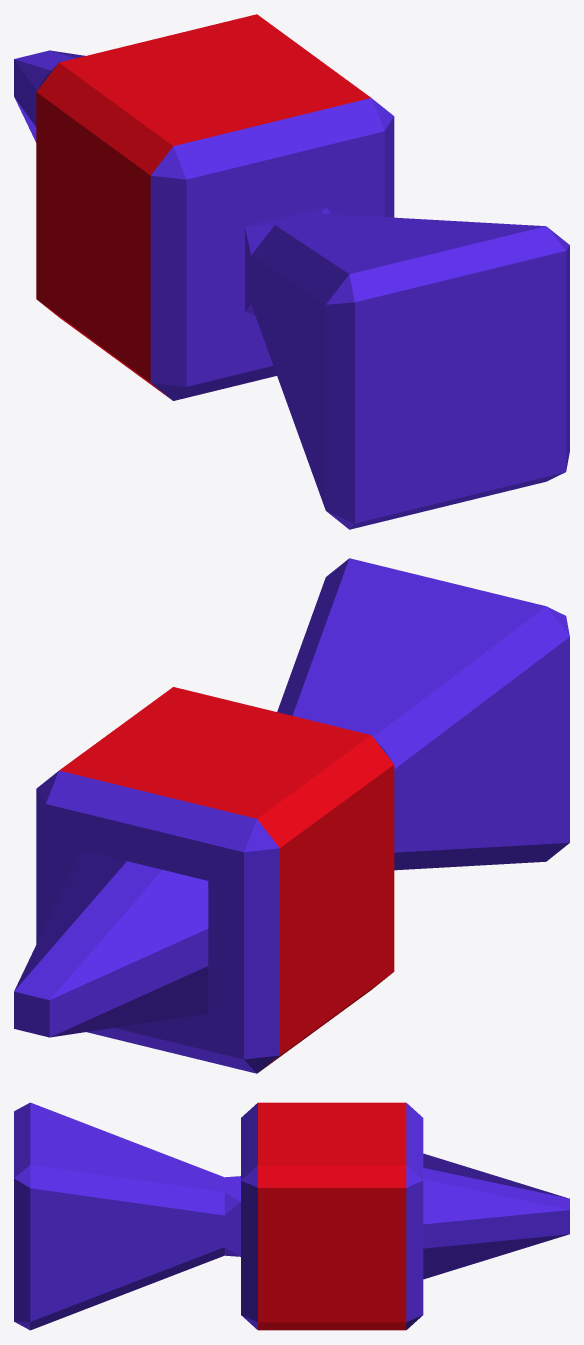
The model's file is weird_thing_colored.glb.
3 renders of one model, top to bottom at view 1: azimuth 30°, elevation 25°; view 2: azimuth 150°, elevation 25°; view 3: azimuth 270°, elevation 25°, orthographic. The views are drawn at different scales.
Parts seen in each view (by area): view 1: Cube; view 2: Cube; view 3: Cube.
Part boxes in pixels (box(x1,y1,x2,y2)): Cube: box(14, 14, 569, 529); Cube: box(14, 558, 569, 1073); Cube: box(14, 1102, 569, 1330).
Size of the model in its own units: 2 by 2 by 6.1.
